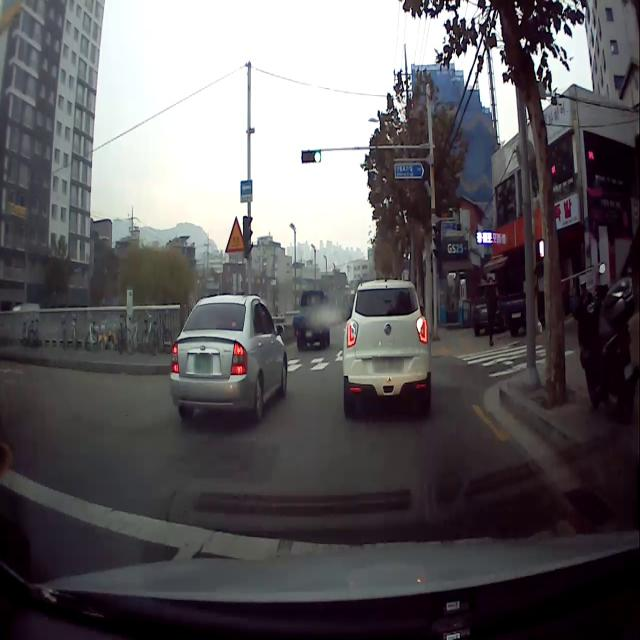Green Light: (313, 149, 321, 163)
